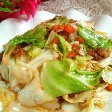juanxincairoupian: (1, 16, 112, 112)
